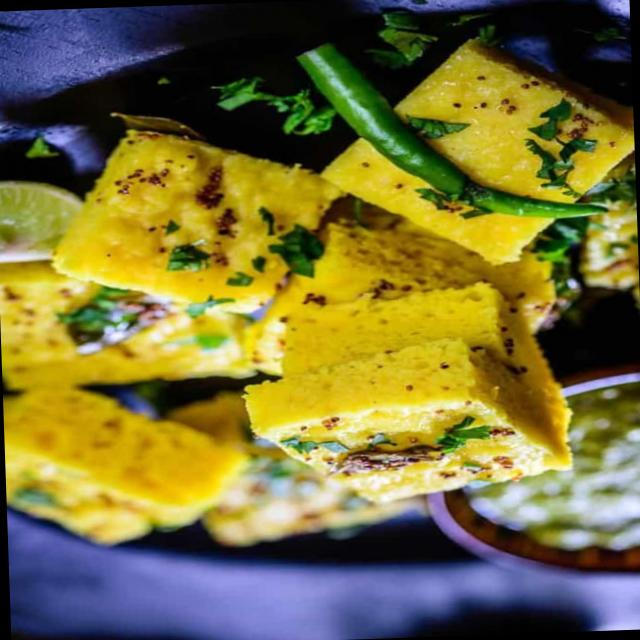dhokla: (0, 22, 640, 581)
